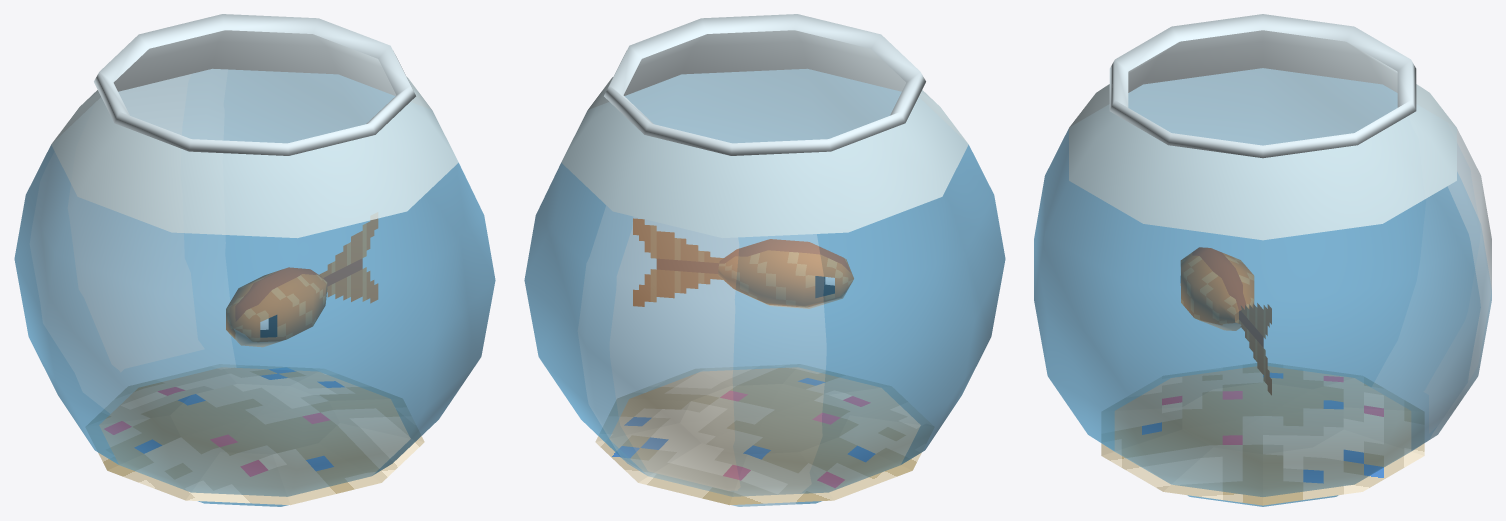
The model's file is moreB-fishBowl.glb.
The picture shows the model from 3 angles, left to right: view 1: azimuth 30°, elevation 25°; view 2: azimuth 150°, elevation 25°; view 3: azimuth 270°, elevation 25°; orthographic projection.
Visible parts, largest first — view 1: moreB.fishBowl; view 2: moreB.fishBowl; view 3: moreB.fishBowl.
Part boxes in pixels (box(x1,y1,x2,y2)): moreB.fishBowl: box(14, 14, 495, 506); moreB.fishBowl: box(524, 14, 1005, 506); moreB.fishBowl: box(1034, 14, 1491, 506).
Size of the model in its own units: 1.84 by 1.61 by 1.75.
Materials: 7 (4 with a texture image).
